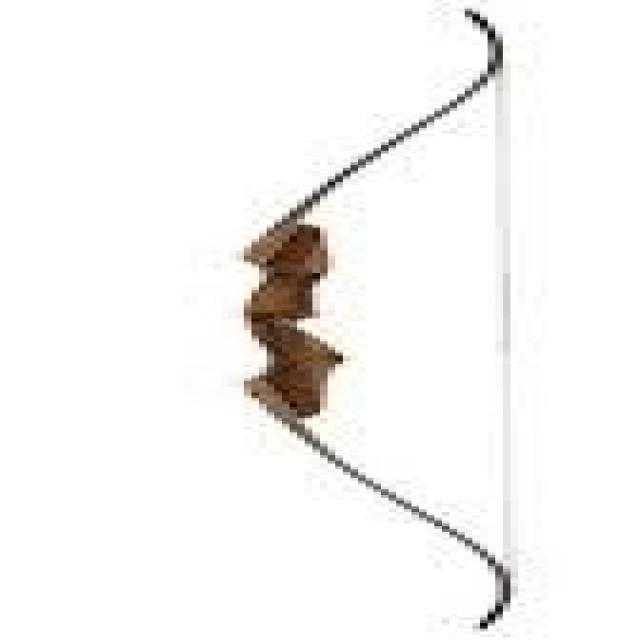X-Bow: (206, 0, 552, 640)
